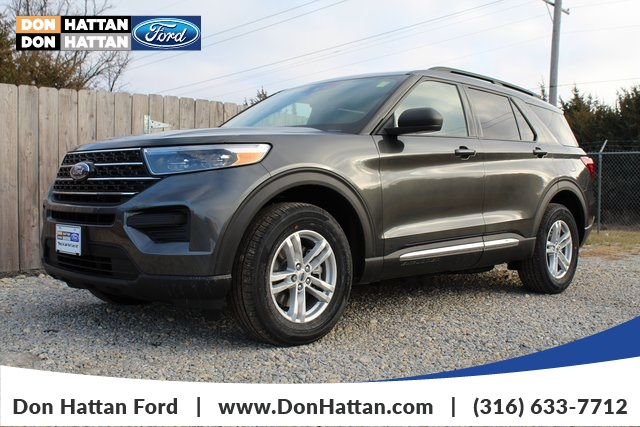Ford Explorer: (41, 68, 594, 346)
